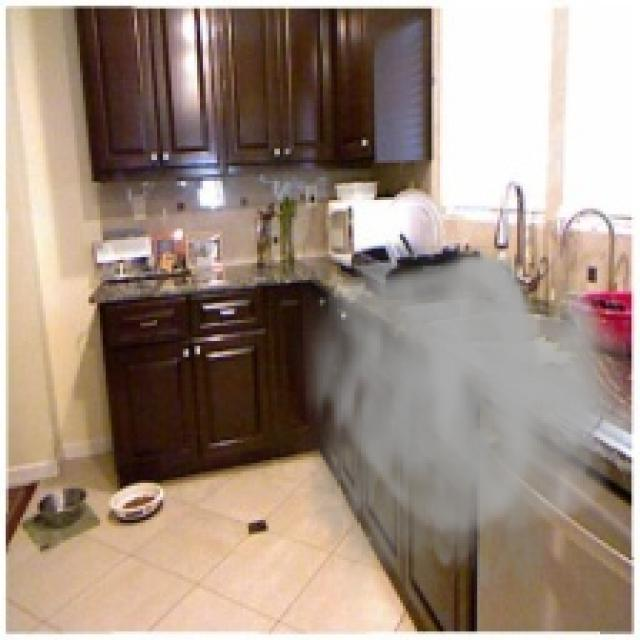Smoke: (282, 245, 634, 638)
